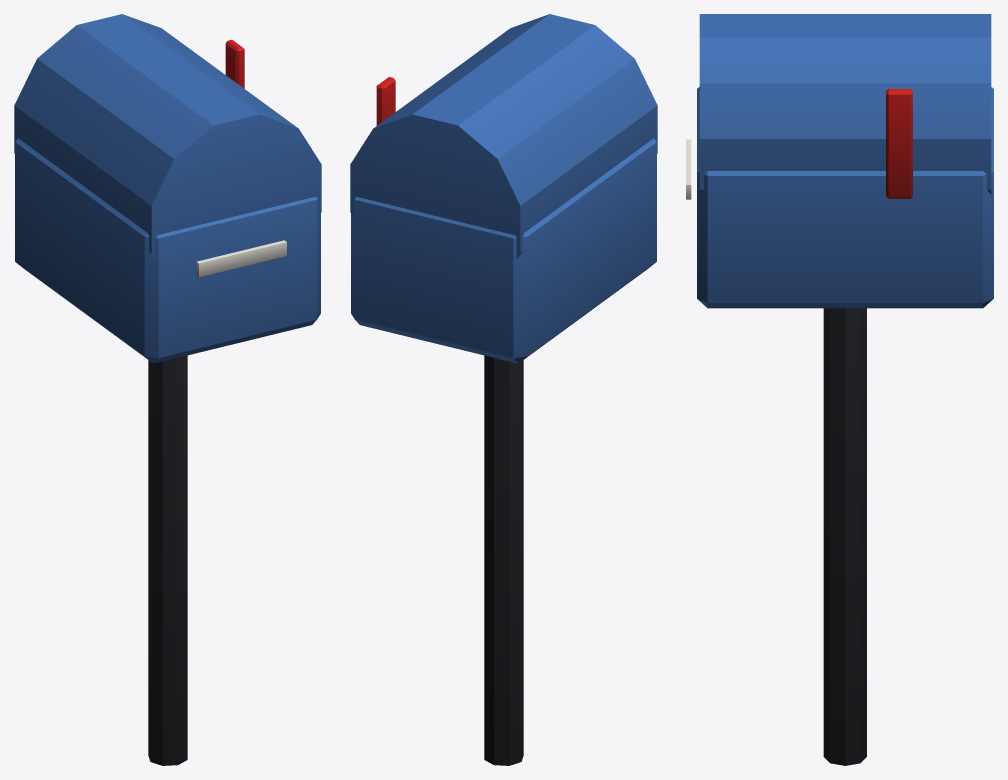
File: mailbox_01.glb
The picture shows the model from 3 angles, left to right: view 1: azimuth 30°, elevation 25°; view 2: azimuth 150°, elevation 25°; view 3: azimuth 270°, elevation 25°; orthographic projection. The views are drawn at different scales.
Visible parts, largest first — view 1: mailbox_01_LOD0; view 2: mailbox_01_LOD0; view 3: mailbox_01_LOD0.
Boxes of the visible parts, x1,y1,x2,y2 form: mailbox_01_LOD0: [14, 14, 321, 765]; mailbox_01_LOD0: [350, 14, 657, 765]; mailbox_01_LOD0: [686, 14, 993, 765].
Size of what is drawn, in the model's own units: 0.42 by 1.49 by 0.57.
Materials: 1 (1 with a texture image).
